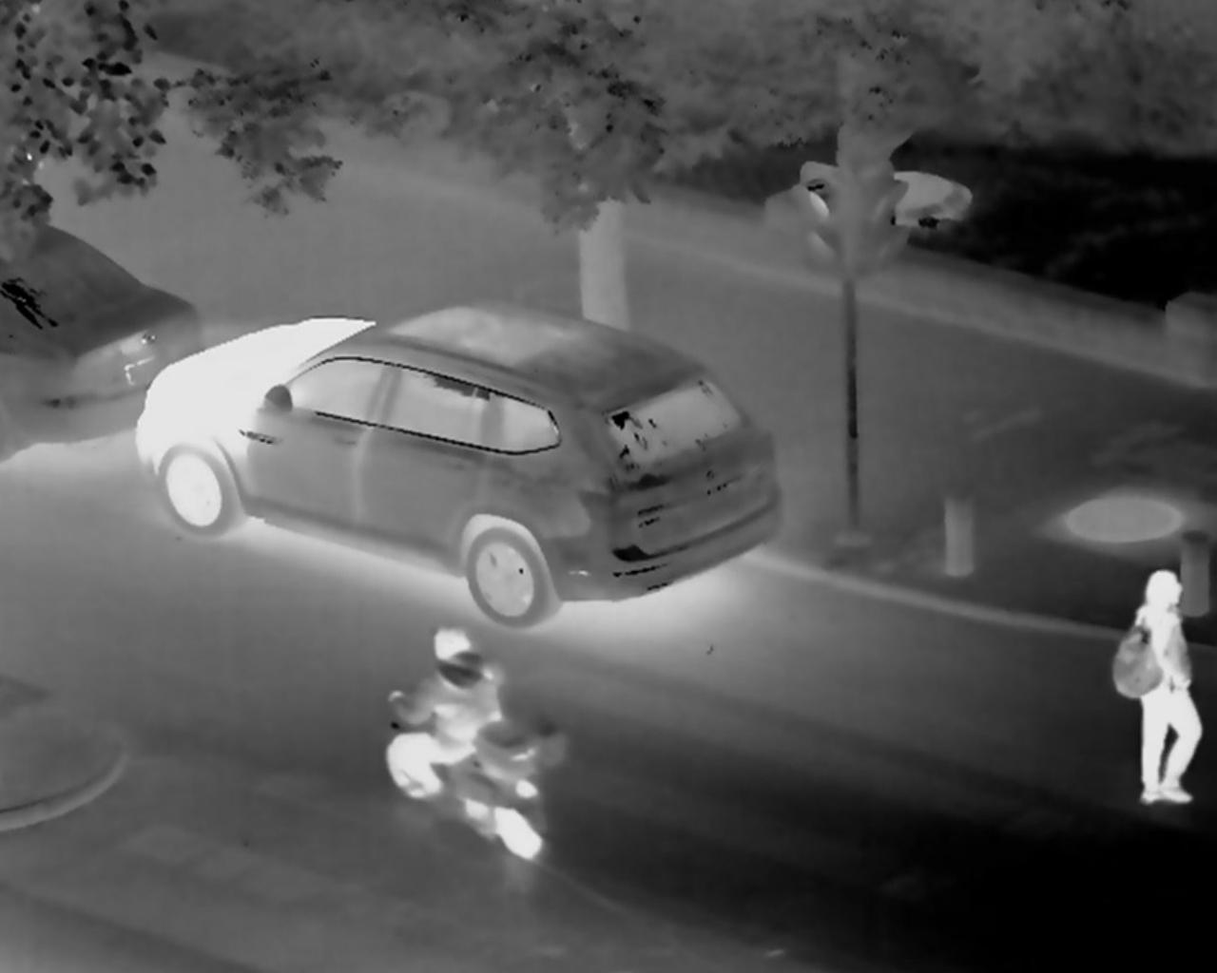person: (1112, 570, 1217, 810), (384, 614, 502, 800)
